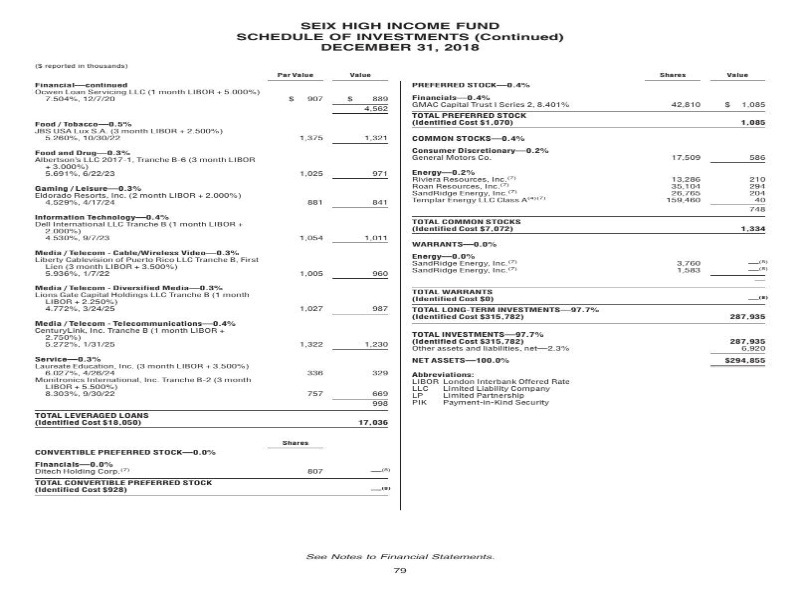table: (21, 55, 408, 520), (393, 63, 792, 442)
